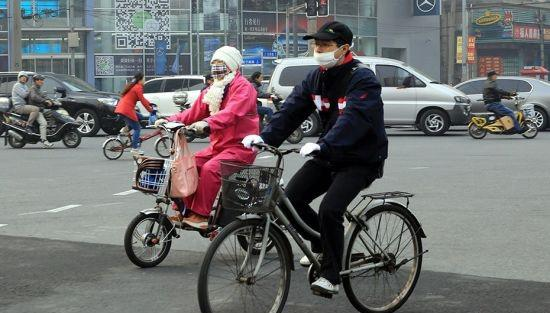OK: (212, 60, 232, 83)
WRONG: (314, 37, 343, 68)
